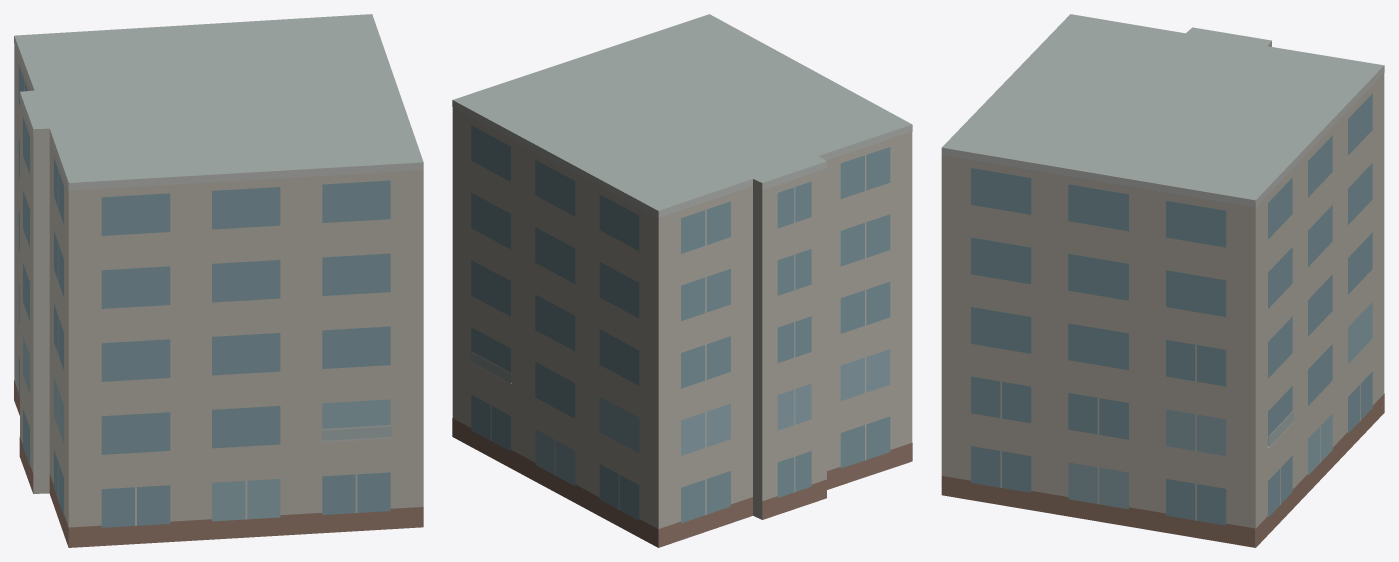
File: survey-upis-32868930.glb
3 renders of one model, left to right at view 1: azimuth 30°, elevation 25°; view 2: azimuth 150°, elevation 25°; view 3: azimuth 270°, elevation 25°, orthographic. The views are drawn at different scales.
Parts seen in each view (by area): view 1: survey-upis-32868930.tmp; view 2: survey-upis-32868930.tmp; view 3: survey-upis-32868930.tmp.
Part boxes in pixels (x1,y1,x2,y2): survey-upis-32868930.tmp: [14, 14, 423, 547]; survey-upis-32868930.tmp: [452, 14, 912, 547]; survey-upis-32868930.tmp: [941, 14, 1384, 547].
Size of the model in its own units: 13.35 by 11.6 by 13.4.
